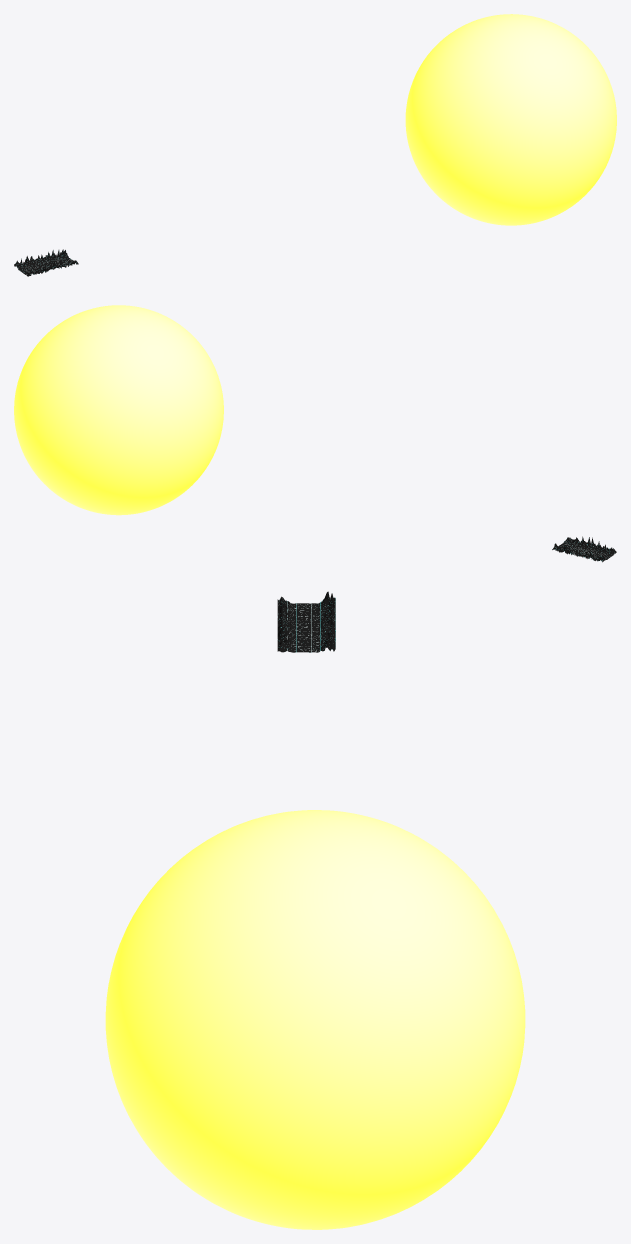
The model's file is retrowave loop.glb.
3 views of the same model, one above another, from view 1: azimuth 30°, elevation 25°; view 2: azimuth 150°, elevation 25°; view 3: azimuth 270°, elevation 25° (orthographic). The views are drawn at different scales.
Parts seen in each view (by area): view 1: Sphere, Plane; view 2: Sphere, Plane; view 3: Sphere, Plane.
Boxes of the visible parts, x1,y1,x2,y2 form: Sphere: (405,14,616,225); Plane: (14,249,78,276); Sphere: (14,305,223,515); Plane: (552,536,616,562); Sphere: (105,810,525,1229); Plane: (277,591,335,652).
Bounding box in the file's own units: 369 × 116 × 116.
